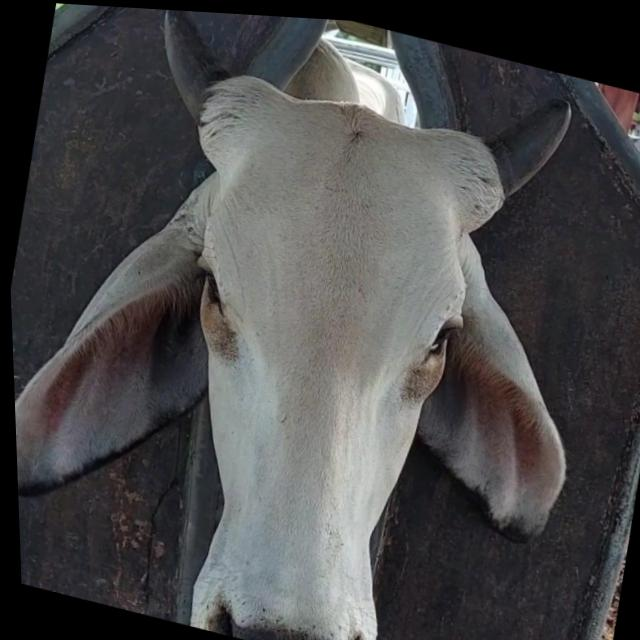cowFace: (125, 62, 506, 640)
